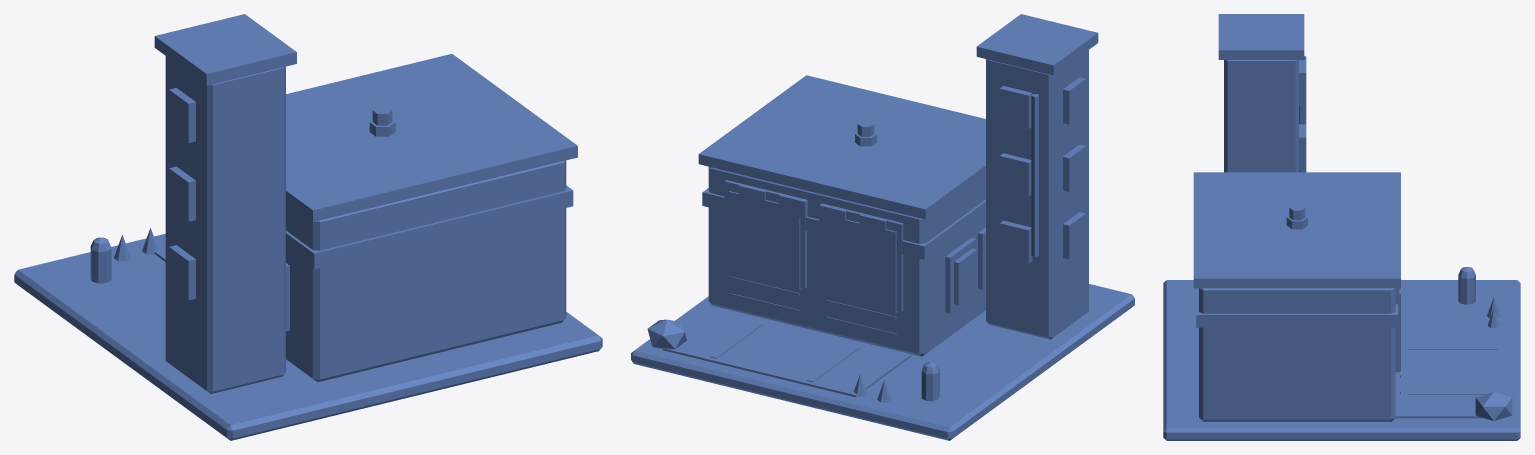
3 renders of one model, left to right at view 1: azimuth 30°, elevation 25°; view 2: azimuth 150°, elevation 25°; view 3: azimuth 270°, elevation 25°, orthographic. The views are drawn at different scales.
Visible parts, largest first — view 1: corpo; view 2: corpo; view 3: corpo.
Part boxes in pixels (x1,y1,x2,y2): corpo: (14, 14, 602, 440); corpo: (631, 14, 1134, 440); corpo: (1163, 14, 1520, 440).
Size of the model in its own units: 2 by 1.74 by 2.
